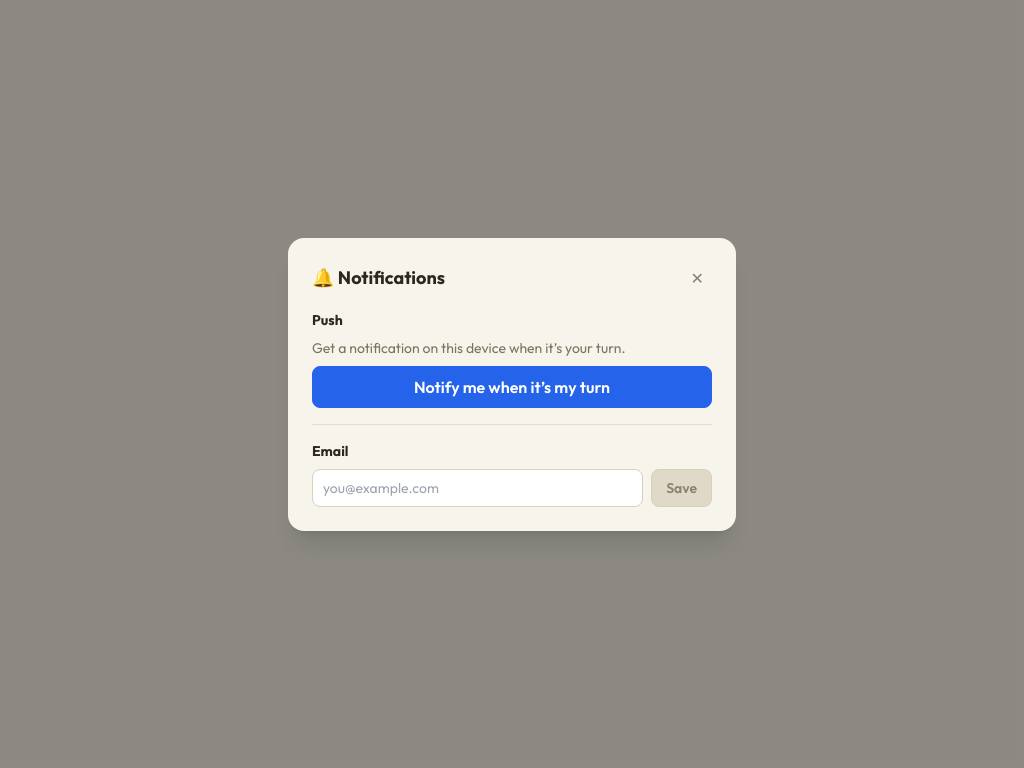
Test: NotificationSettings › a 429 shows the rate-limit text
In the field named "Email address": (478, 488) [312, 468, 643, 506], type "pete@example.com"
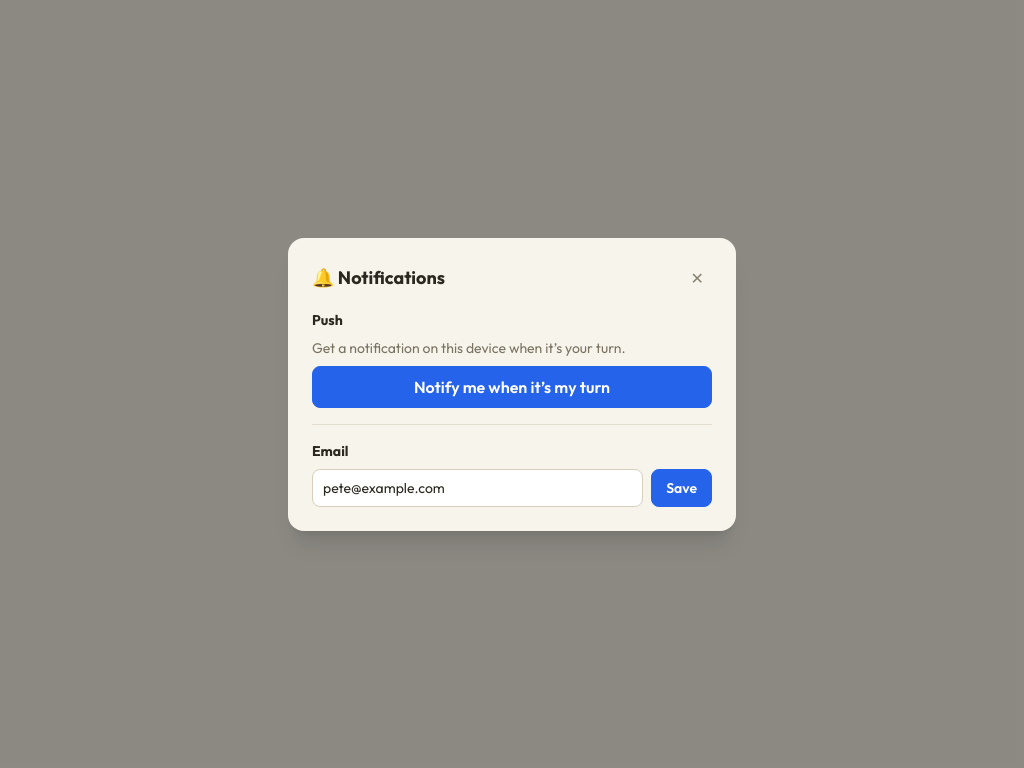
Click the button "Save": (682, 488) [651, 468, 712, 506]
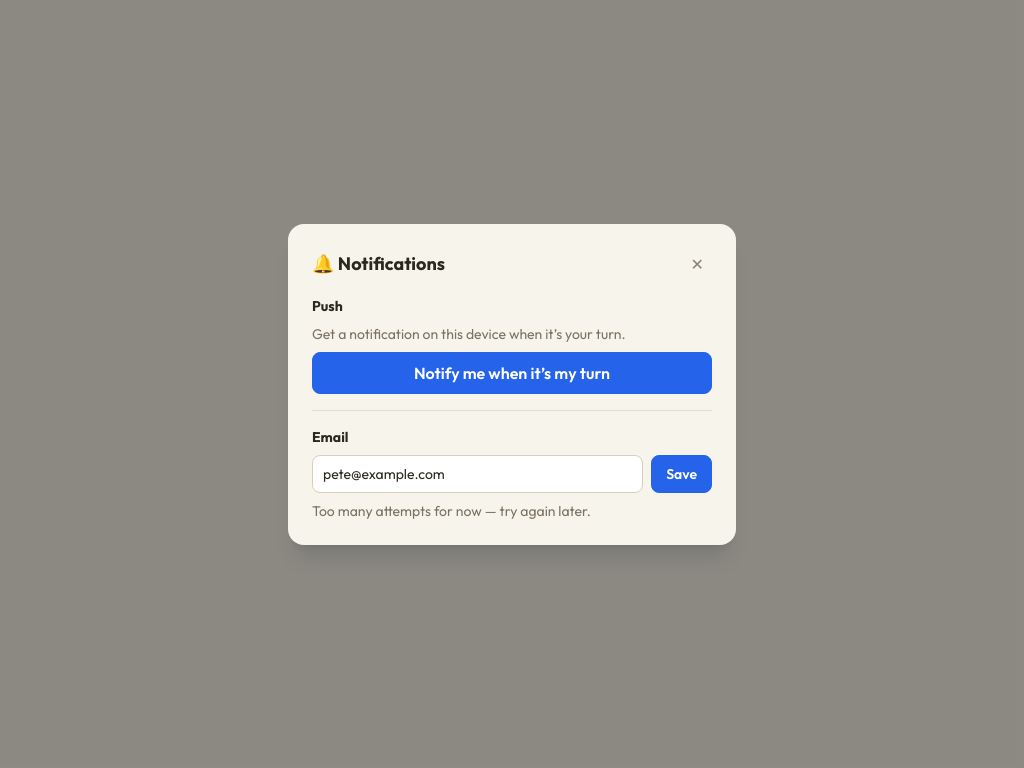
Expected: the text "Too many attempts for now — try again later." is shown, [312, 502, 591, 520]
